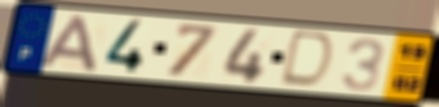3: (341, 37, 386, 92)
4: (101, 17, 147, 76), (222, 27, 267, 84)
7: (165, 22, 220, 79)
A: (36, 13, 100, 73)
D: (276, 29, 338, 91)
